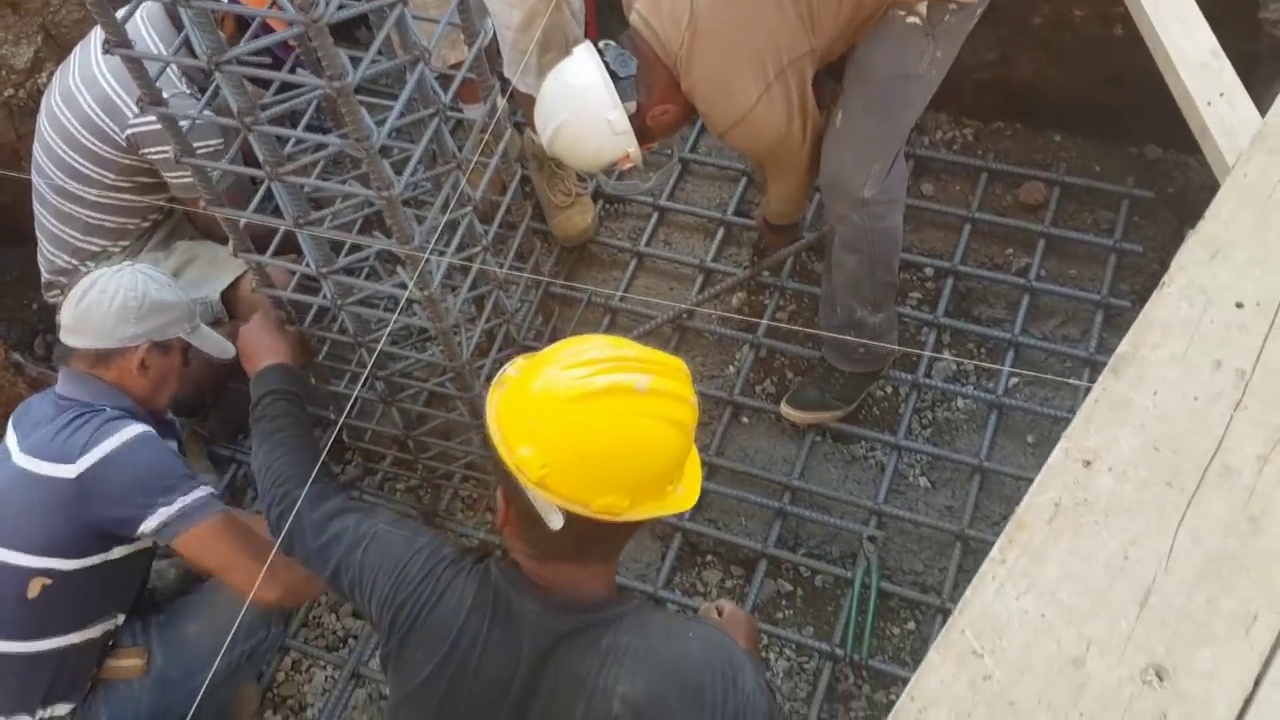helmet: (477, 341, 702, 527), (531, 20, 646, 178), (233, 0, 309, 50)
helmet-off: (48, 254, 242, 431)
helmet-on: (475, 336, 700, 594), (529, 11, 703, 182), (166, 0, 308, 94)
person: (240, 306, 780, 716), (525, 0, 994, 429), (5, 250, 321, 720), (2, 0, 314, 309), (415, 0, 595, 243)
